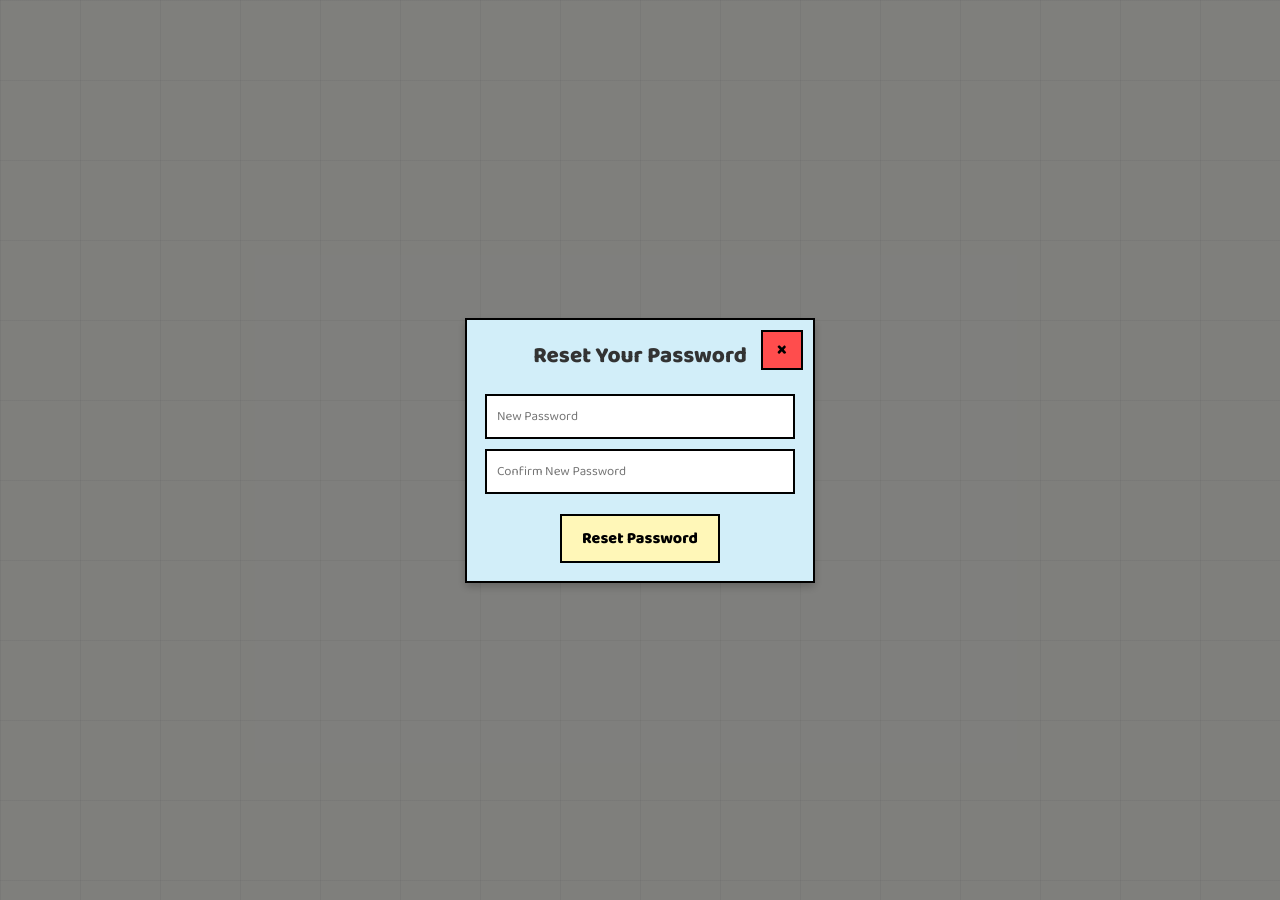
ResetPassword Component › should display error message for invalid or expired token
The width and height of the screenshot is (1280, 900).
Type "StrongPassword1" into the password field with placeholder "New Password". click: (640, 416)
box: [485,394,795,438]
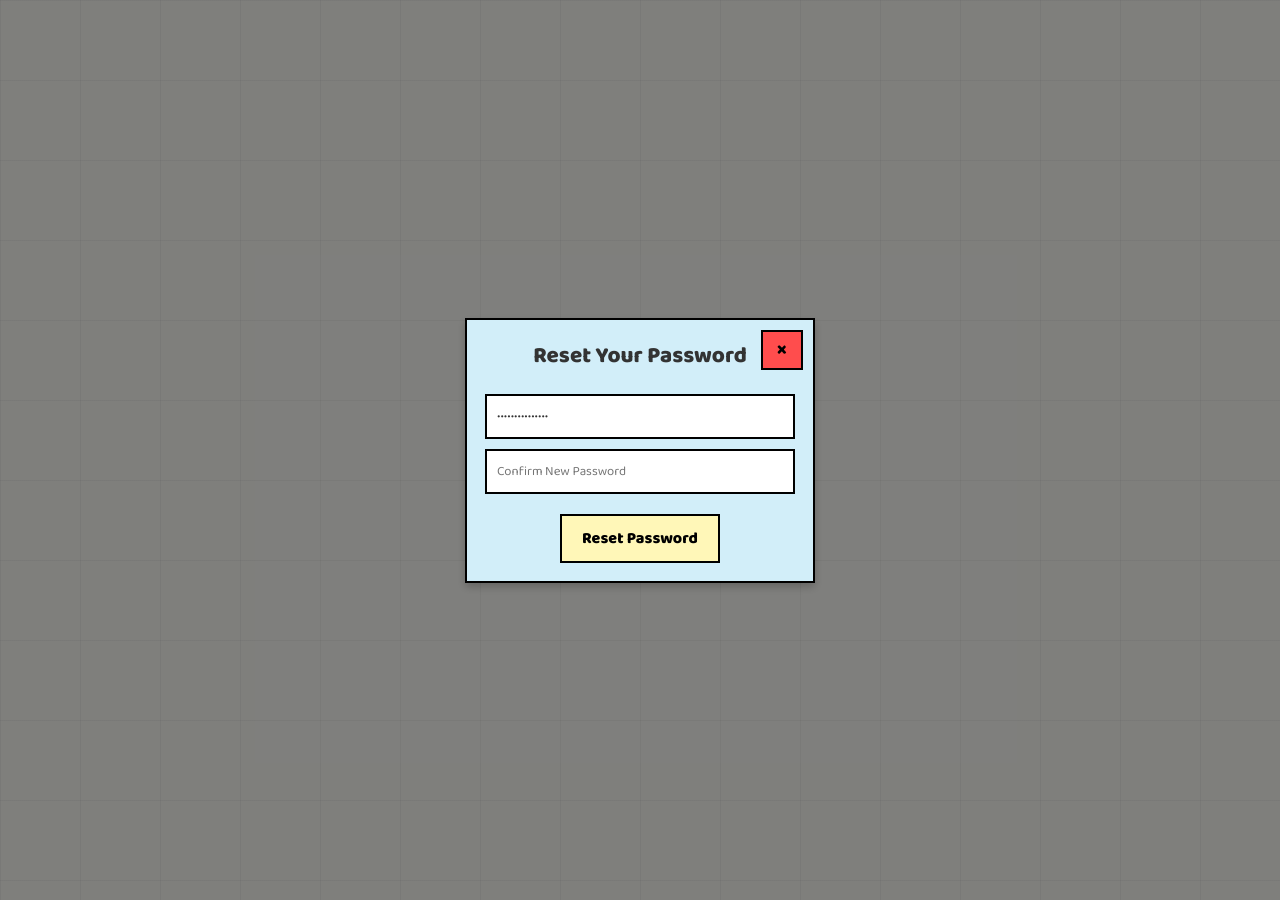
Type "StrongPassword1" into the password field with placeholder "Confirm New Password". click: (640, 471)
box: [485,448,795,494]
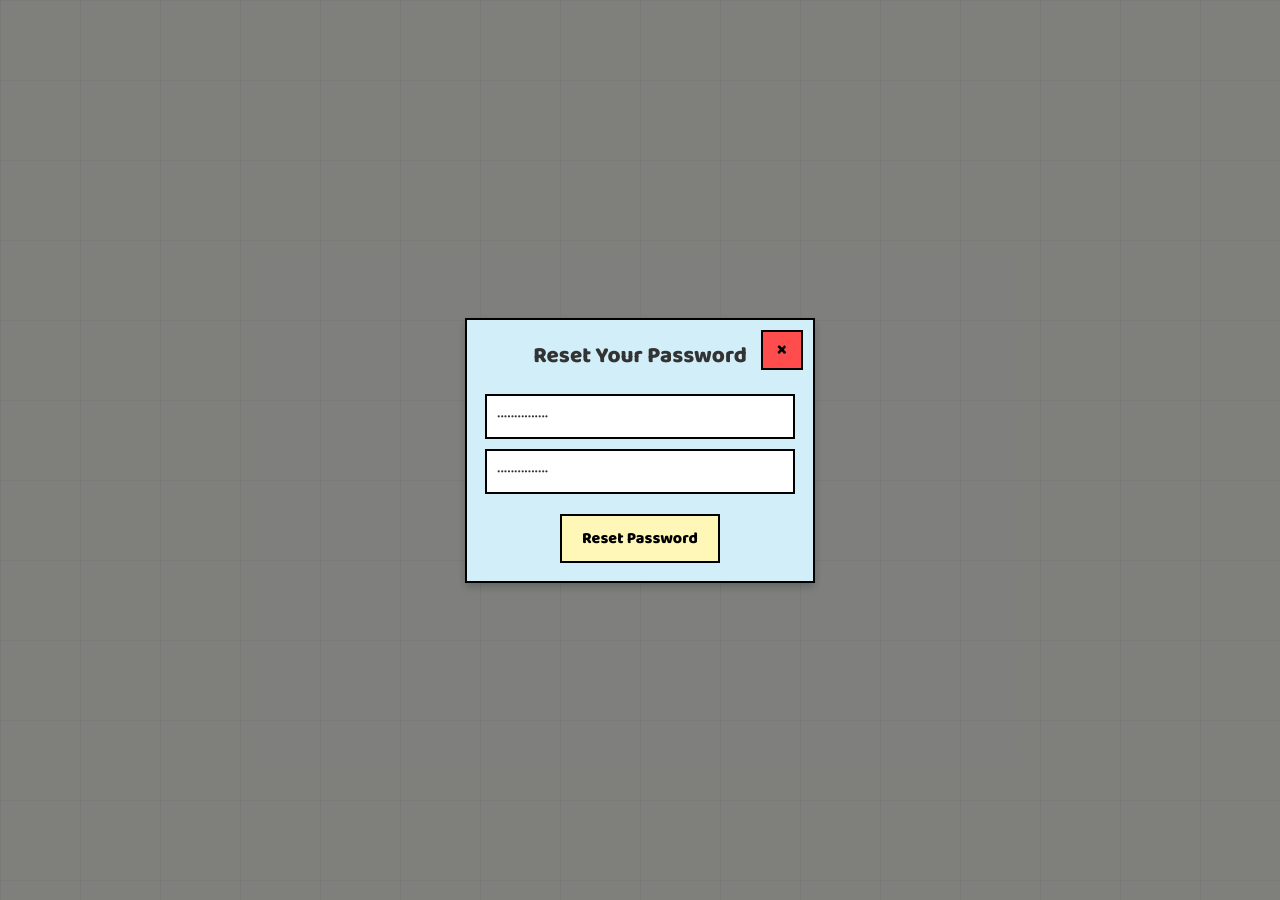
Click the button "Reset Password". click: (640, 538)
box: [560,514,720,562]
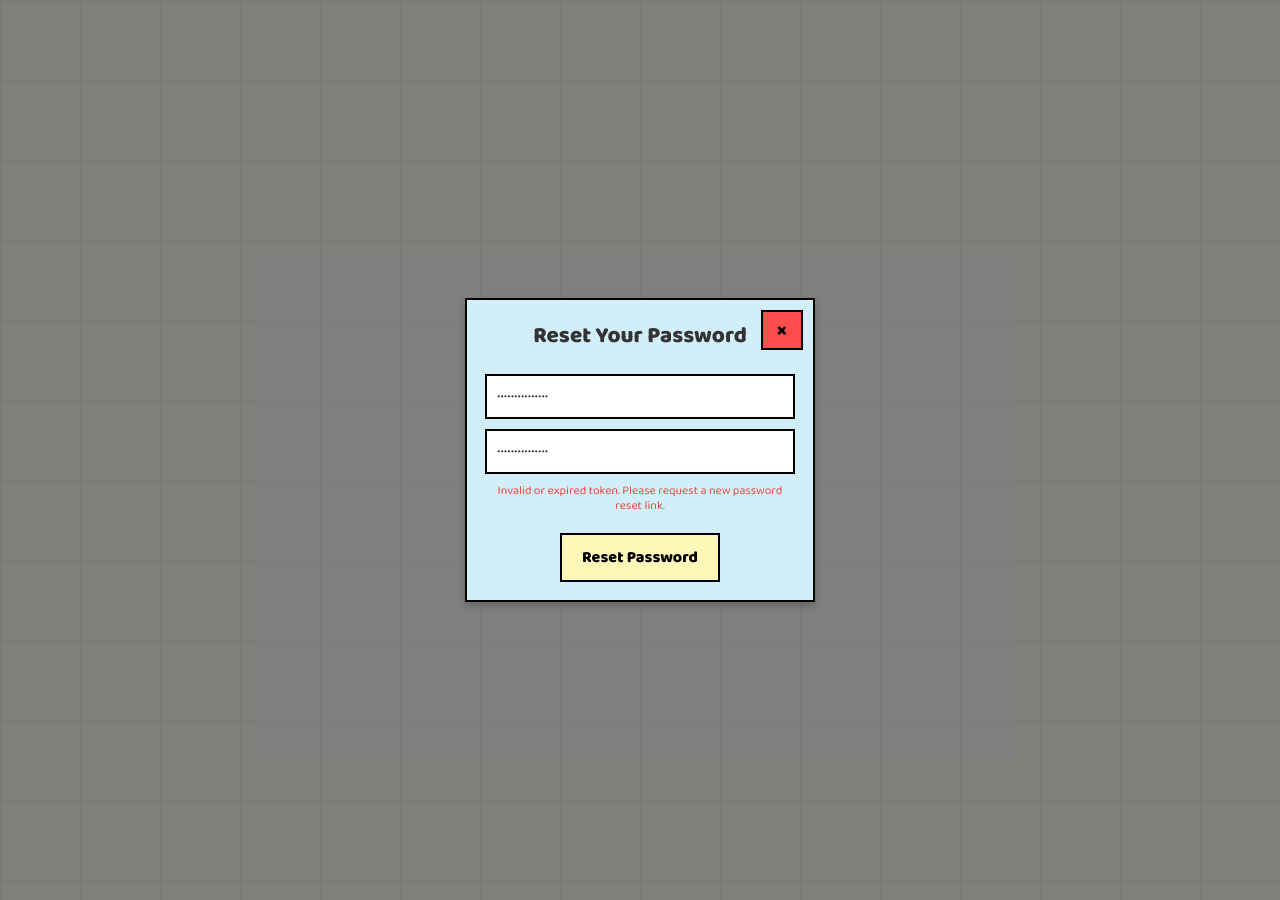
Check: the text "Invalid or expired token. Please request a new password reset link." is shown, box [485,484,795,513]
